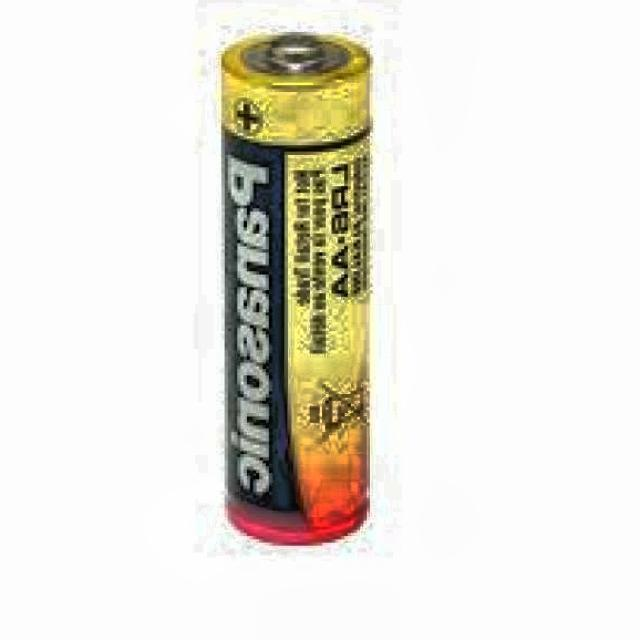battery: (221, 32, 373, 546)
